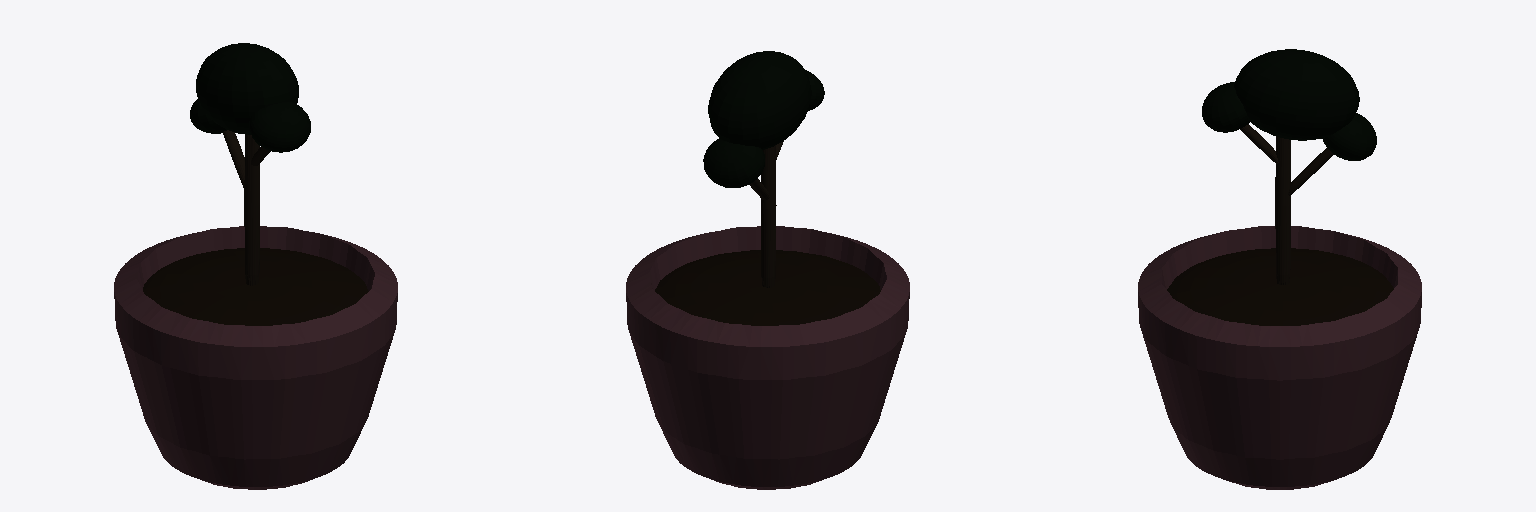
The model's file is plant.obj.
The picture shows the model from 3 angles: view 1: azimuth 30°, elevation 25°; view 2: azimuth 150°, elevation 25°; view 3: azimuth 270°, elevation 25°; orthographic projection.
Visible parts, largest first — view 1: plant pot, plant dirt, leaves plant, leaves plant leaves3, plant stem, leaves plant leaves2, plant stem branch1; view 2: plant pot, plant dirt, leaves plant, leaves plant leaves2, plant stem; view 3: plant pot, plant dirt, leaves plant, plant stem, leaves plant leaves3, leaves plant leaves2, plant stem branch1.
Boxes of the visible parts, <box> form: plant pot: <box>114,226,397,489</box>; plant dirt: <box>143,248,368,325</box>; leaves plant: <box>196,43,298,134</box>; leaves plant leaves3: <box>249,102,310,152</box>; plant stem: <box>244,135,259,285</box>; leaves plant leaves2: <box>190,99,226,133</box>; plant stem branch1: <box>223,130,244,187</box>; plant pot: <box>626,226,909,489</box>; plant dirt: <box>655,250,880,325</box>; leaves plant: <box>708,51,811,149</box>; leaves plant leaves2: <box>703,138,764,187</box>; plant stem: <box>761,145,776,287</box>; plant pot: <box>1138,226,1421,489</box>; plant dirt: <box>1167,248,1393,325</box>; leaves plant: <box>1234,49,1359,140</box>; plant stem: <box>1275,136,1290,284</box>; leaves plant leaves3: <box>1202,82,1249,132</box>; leaves plant leaves2: <box>1322,113,1376,160</box>; plant stem branch1: <box>1288,148,1333,195</box>.
Bounding box in the file's own units: 4.94 × 7.75 × 4.94.